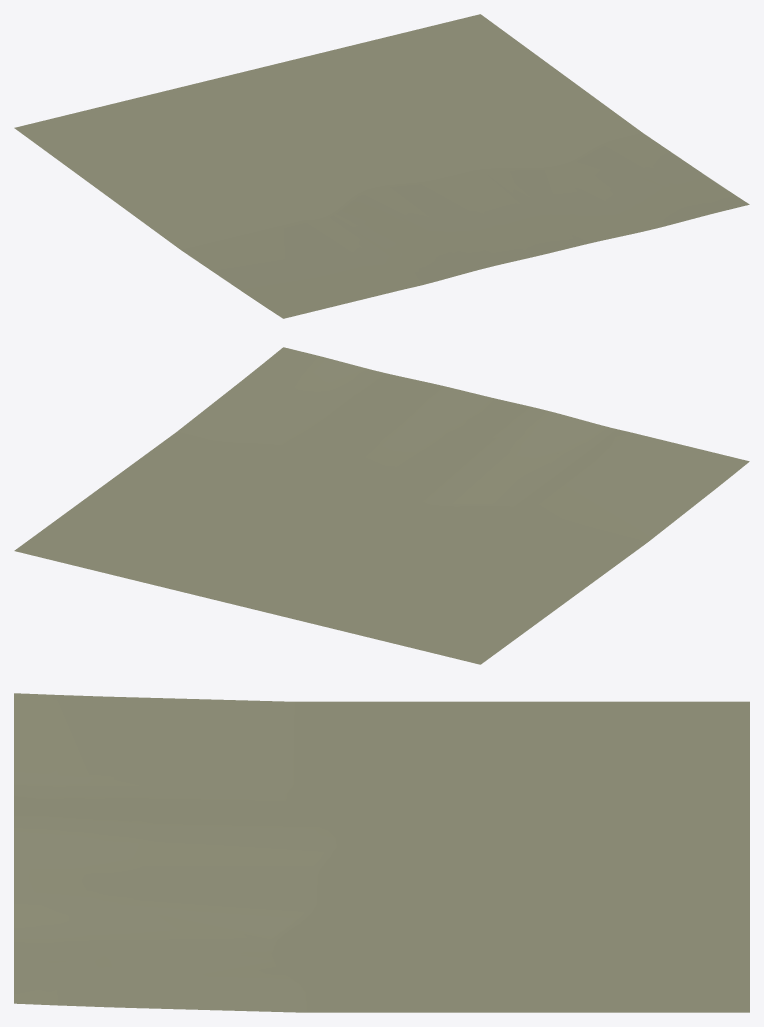
File: SM_VB_CityTerrain_11_1.fbx
3 renders of one model, top to bottom at view 1: azimuth 30°, elevation 25°; view 2: azimuth 150°, elevation 25°; view 3: azimuth 270°, elevation 25°, orthographic. The views are drawn at different scales.
Parts seen in each view (by area): view 1: SM_VB_CityTerrain_11_1; view 2: SM_VB_CityTerrain_11_1; view 3: SM_VB_CityTerrain_11_1.
Part boxes in pixels (bbox=[...]): SM_VB_CityTerrain_11_1: bbox=[14, 14, 749, 318]; SM_VB_CityTerrain_11_1: bbox=[14, 347, 749, 664]; SM_VB_CityTerrain_11_1: bbox=[14, 693, 749, 1012].
Bounding box in the file's own units: 600 × 9.33 × 600.
